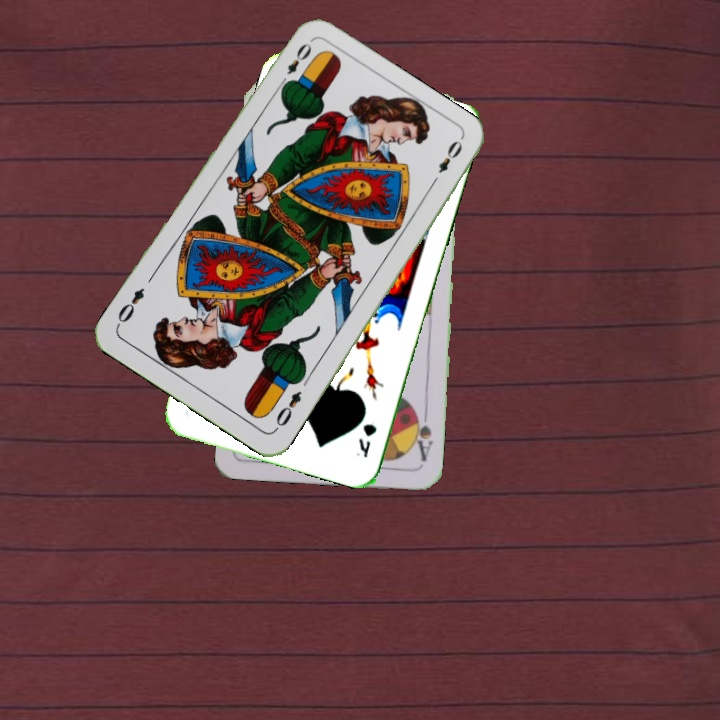EO: (275, 38, 315, 90), (271, 386, 304, 434)
GK: (352, 419, 379, 460)
SA: (409, 406, 435, 465)
